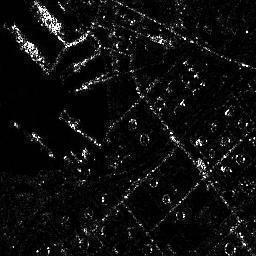ship: (2, 22, 53, 80), (25, 1, 68, 43)
